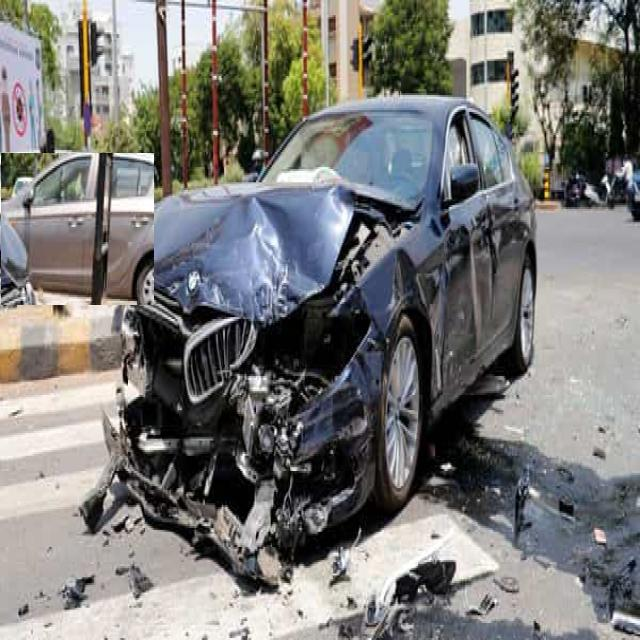accident: (105, 98, 535, 583)
car: (0, 153, 154, 305)
